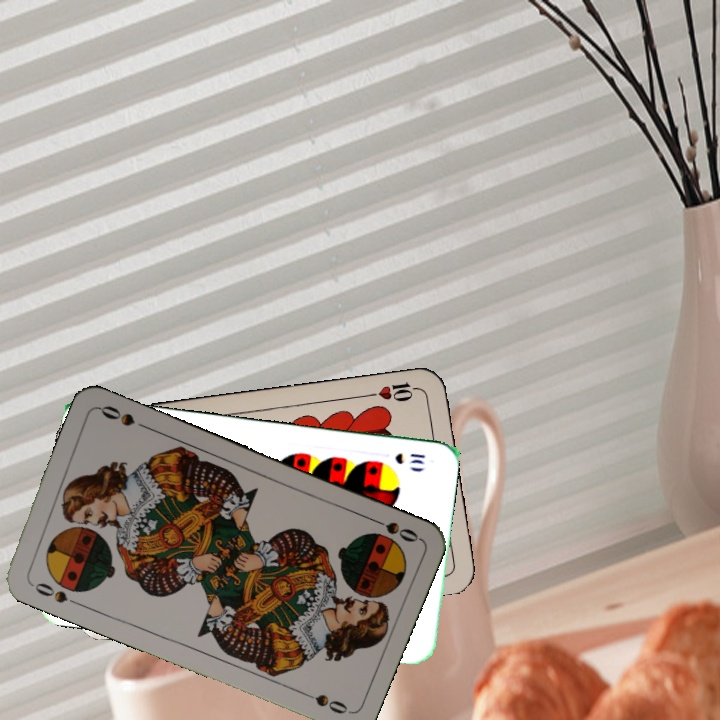H10: (365, 377, 424, 405)
S10: (390, 449, 427, 467)
SO: (365, 513, 422, 545), (25, 577, 70, 606)
